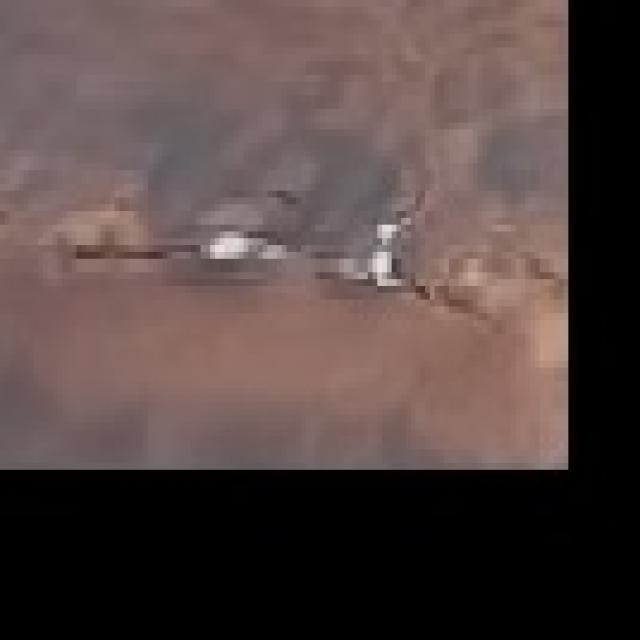crack: (49, 212, 269, 335)
